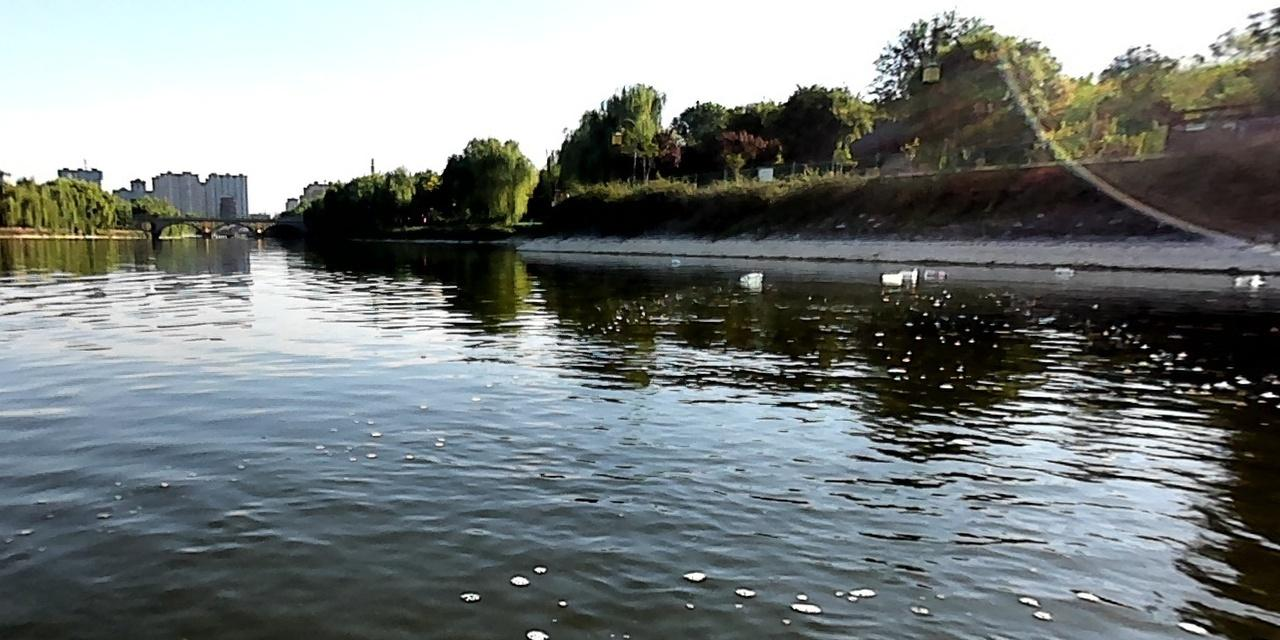bottle: (923, 266, 947, 280), (1051, 265, 1078, 276), (880, 270, 904, 282), (898, 266, 918, 280), (738, 270, 764, 279)
